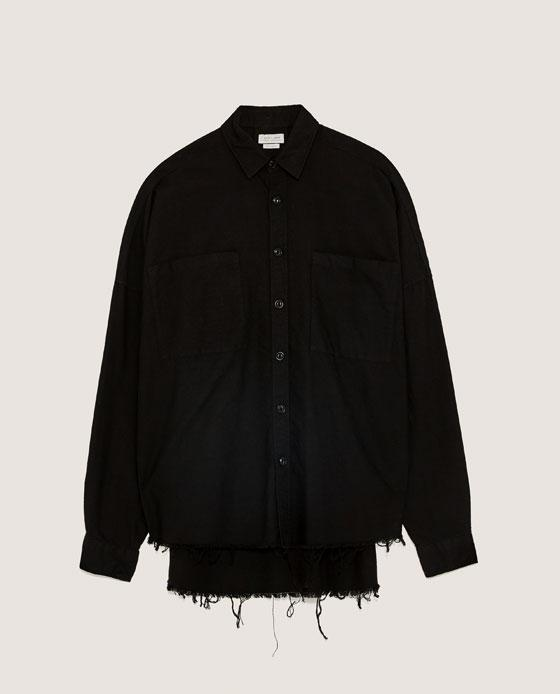teeshirt: (83, 104, 488, 599)
